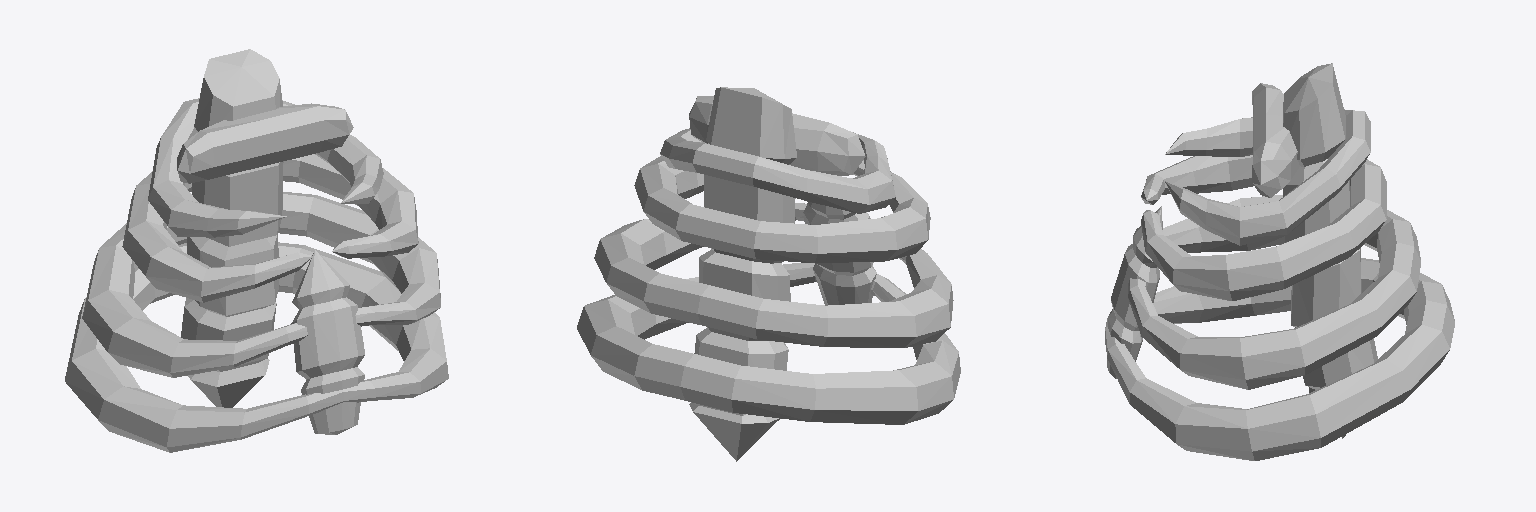
The model's file is ribcage.obj.
3 renders of one model, left to right at view 1: azimuth 30°, elevation 25°; view 2: azimuth 150°, elevation 25°; view 3: azimuth 270°, elevation 25°, orthographic.
Parts seen in each view (by area): view 1: ribcage_Cube.546; view 2: ribcage_Cube.546; view 3: ribcage_Cube.546.
Boxes of the visible parts, <box> form: ribcage_Cube.546: <box>65,49,448,452</box>; ribcage_Cube.546: <box>577,87,960,461</box>; ribcage_Cube.546: <box>1105,63,1454,460</box>.
Bounding box in the file's own units: 0.8456 × 0.8582 × 0.7468.